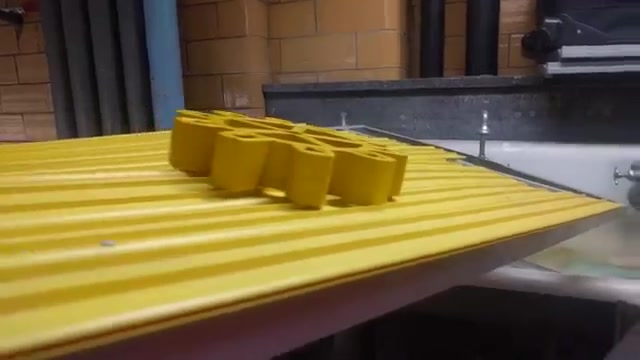gear: (158, 95, 414, 217)
